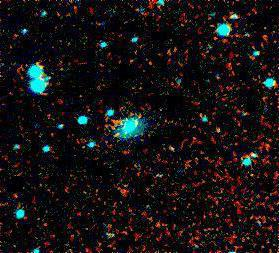star: (202, 117, 232, 147)
